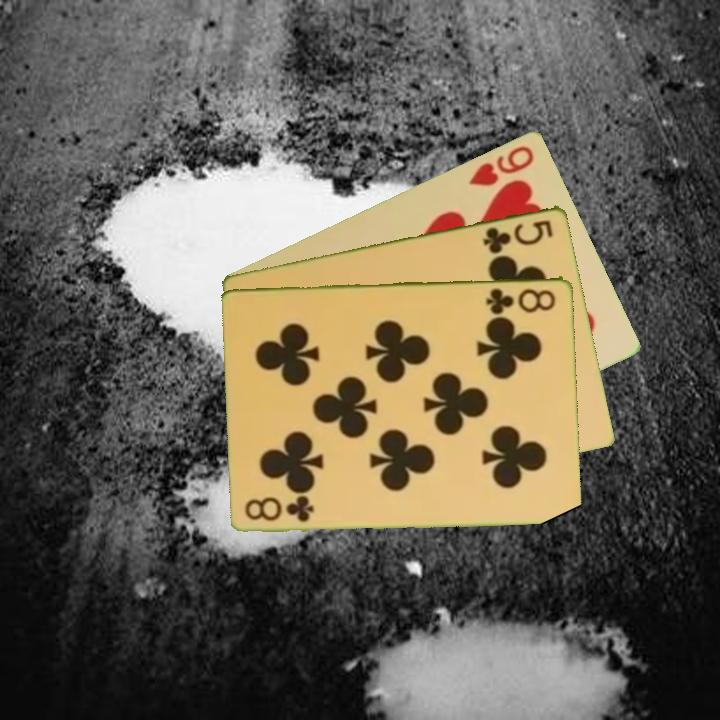5c: (479, 216, 556, 256)
8c: (483, 284, 559, 316), (242, 494, 317, 525)
9h: (465, 141, 537, 189)
